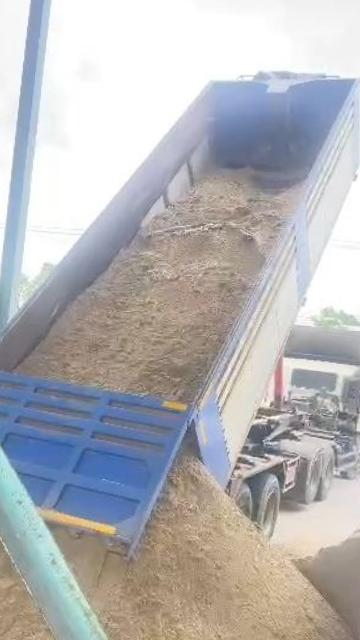sand: (19, 172, 299, 401), (58, 459, 359, 640), (0, 521, 111, 640), (273, 526, 360, 640)
